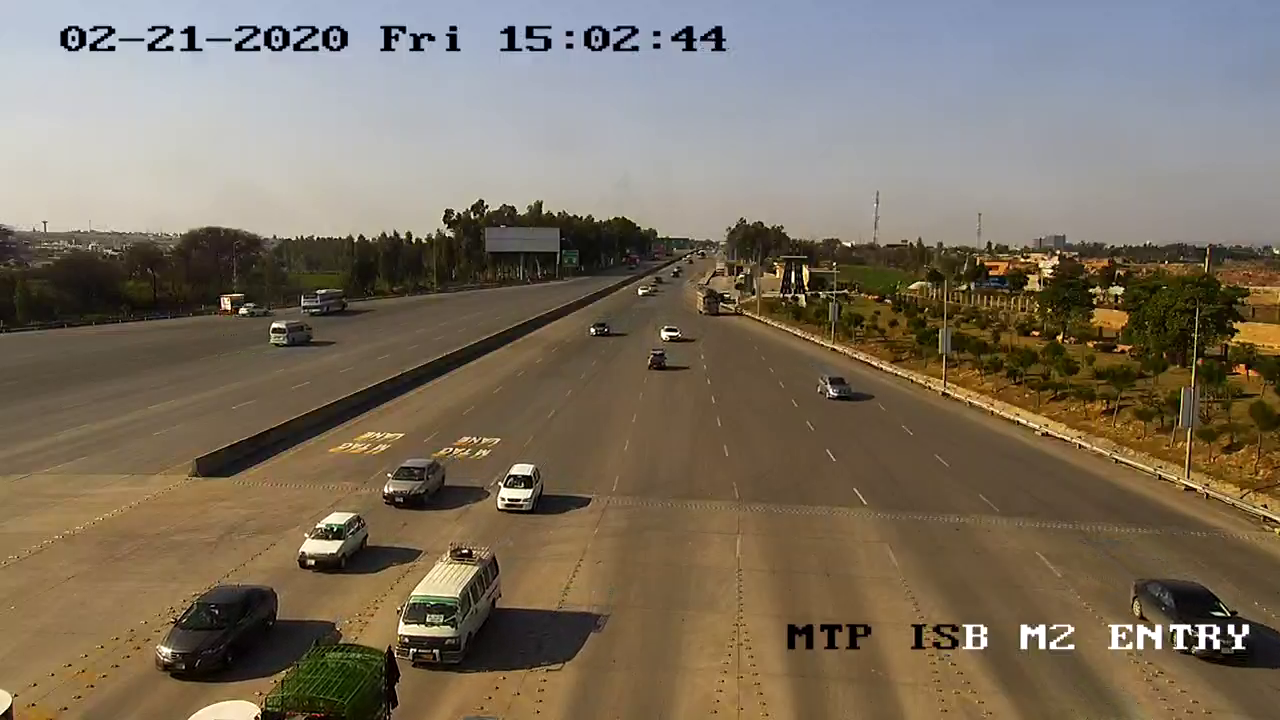f1: (143, 575, 281, 686), (286, 504, 379, 578), (375, 449, 448, 518), (488, 454, 549, 518)
f2: (386, 542, 511, 672)
